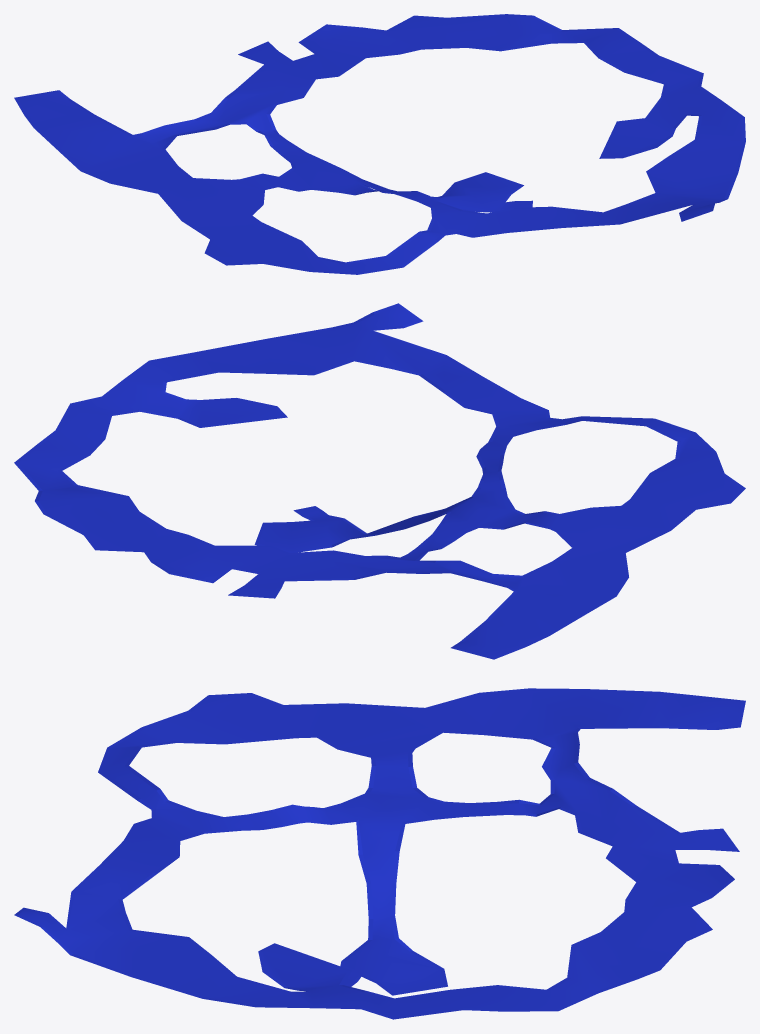
The model's file is shadow_readable.FBX.
The picture shows the model from 3 angles, top to bottom: view 1: azimuth 30°, elevation 25°; view 2: azimuth 150°, elevation 25°; view 3: azimuth 270°, elevation 25°; orthographic projection. The views are drawn at different scales.
Parts seen in each view (by area): view 1: S_Bsp_4000_shadow; view 2: S_Bsp_4000_shadow; view 3: S_Bsp_4000_shadow.
Part boxes in pixels (box(x1,y1,x2,y2)): S_Bsp_4000_shadow: box(14, 14, 745, 274); S_Bsp_4000_shadow: box(14, 303, 745, 659); S_Bsp_4000_shadow: box(14, 688, 745, 1019).
Bounding box in the file's own units: 16186 × 2274 × 15075.
